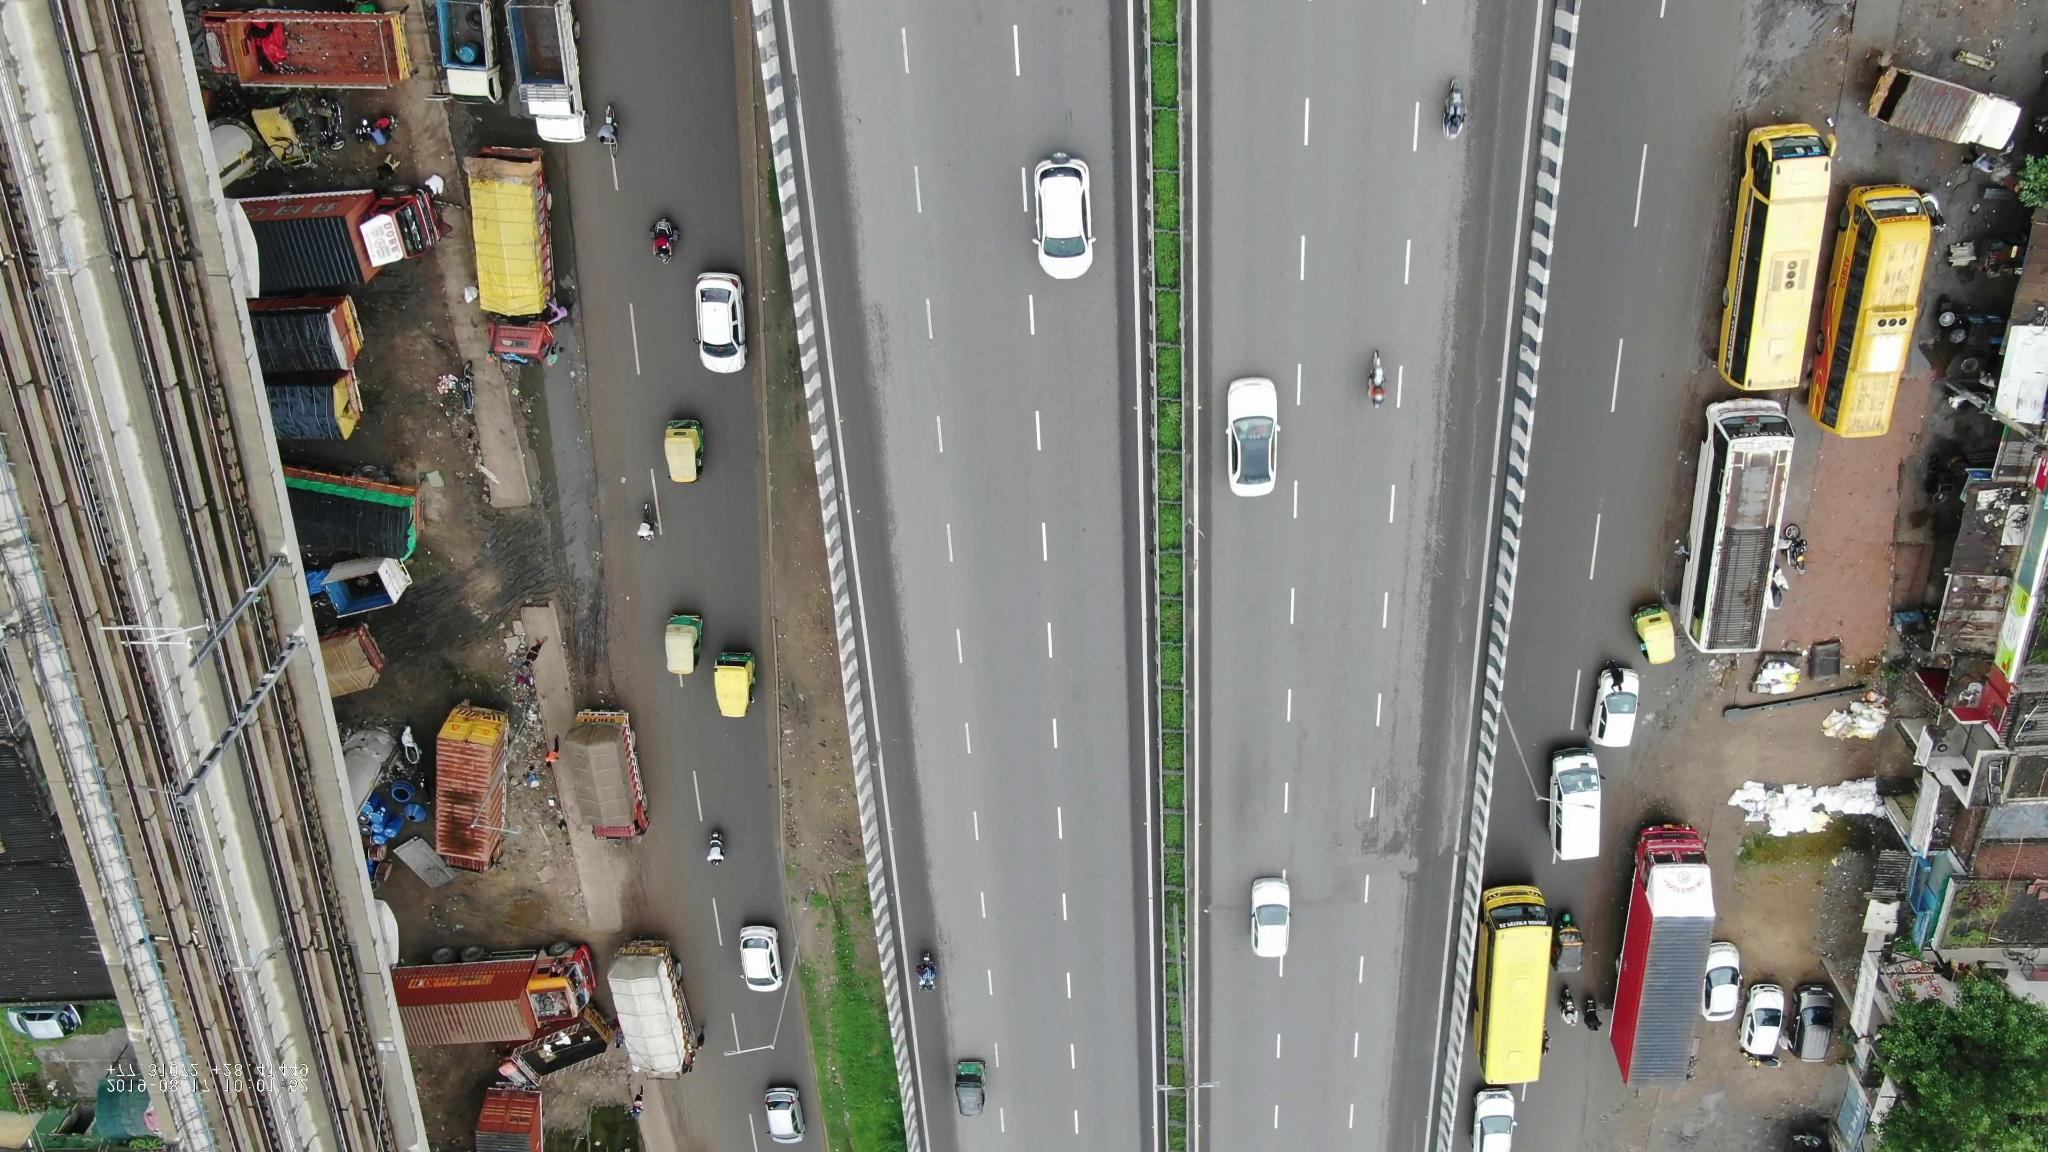Waterlogging: (1447, 148, 1519, 463), (527, 370, 619, 592)
